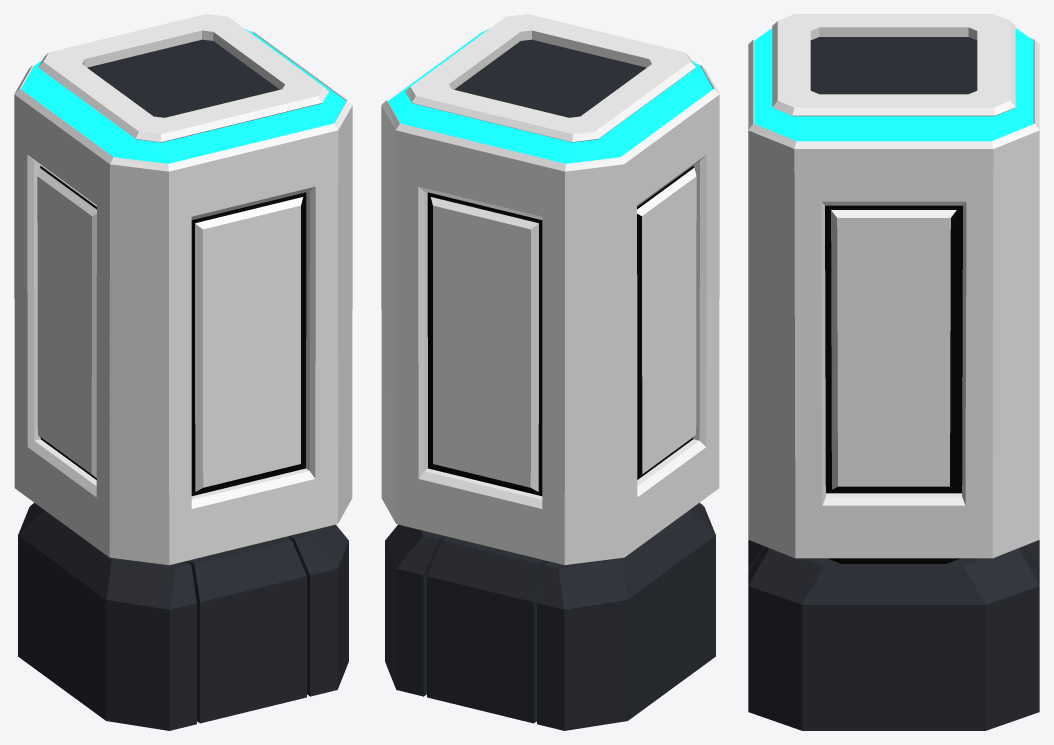
Rendered from SM_Pillar_05m.fbx.
3 renders of one model, left to right at view 1: azimuth 30°, elevation 25°; view 2: azimuth 150°, elevation 25°; view 3: azimuth 270°, elevation 25°, orthographic. The views are drawn at different scales.
Visible parts, largest first — view 1: SM_Pillar_05m; view 2: SM_Pillar_05m; view 3: SM_Pillar_05m.
Part boxes in pixels (bbox=[...]): SM_Pillar_05m: bbox=[14, 14, 352, 730]; SM_Pillar_05m: bbox=[381, 14, 719, 730]; SM_Pillar_05m: bbox=[748, 14, 1039, 730].
Bounding box in the file's own units: 24 × 55.26 × 24.
